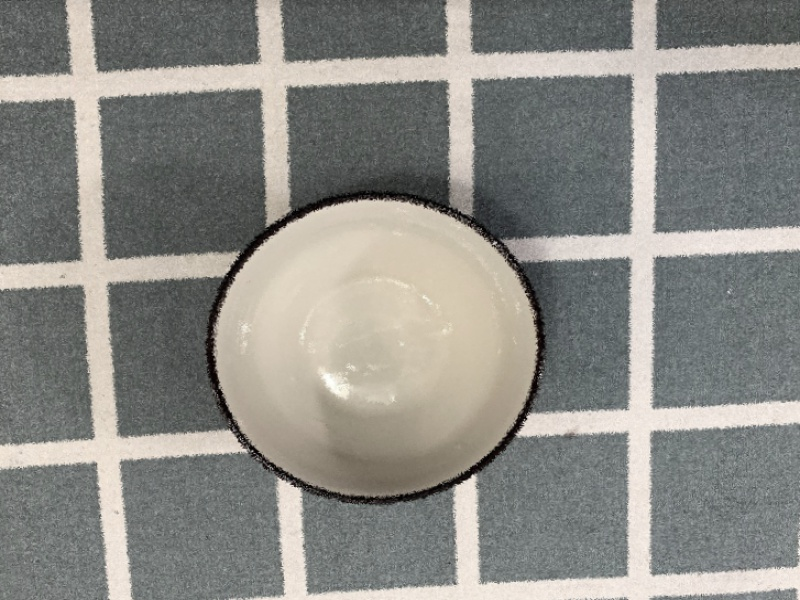bowl_small: (182, 172, 561, 519)
